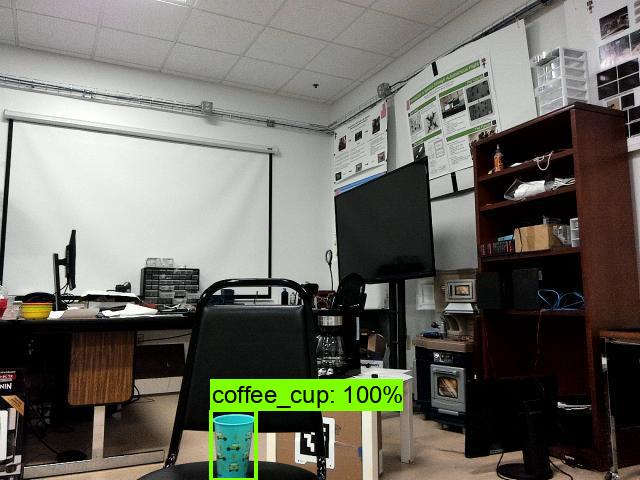coffee_cup: (210, 412, 258, 480)
